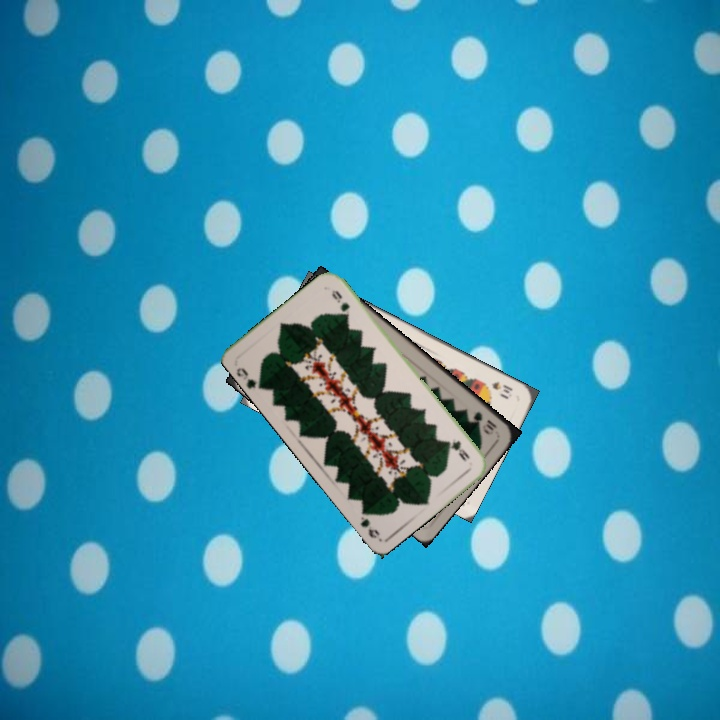G10: (469, 407, 500, 437)
G9: (232, 363, 264, 391), (444, 436, 473, 464)
S10: (487, 377, 515, 396)
